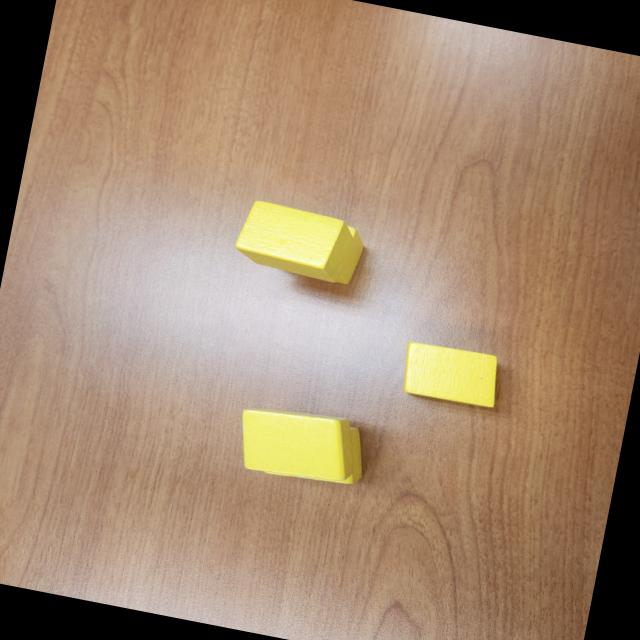yellow: (230, 398, 365, 489), (232, 198, 359, 286), (257, 408, 374, 492), (396, 338, 505, 410), (274, 212, 370, 289)
